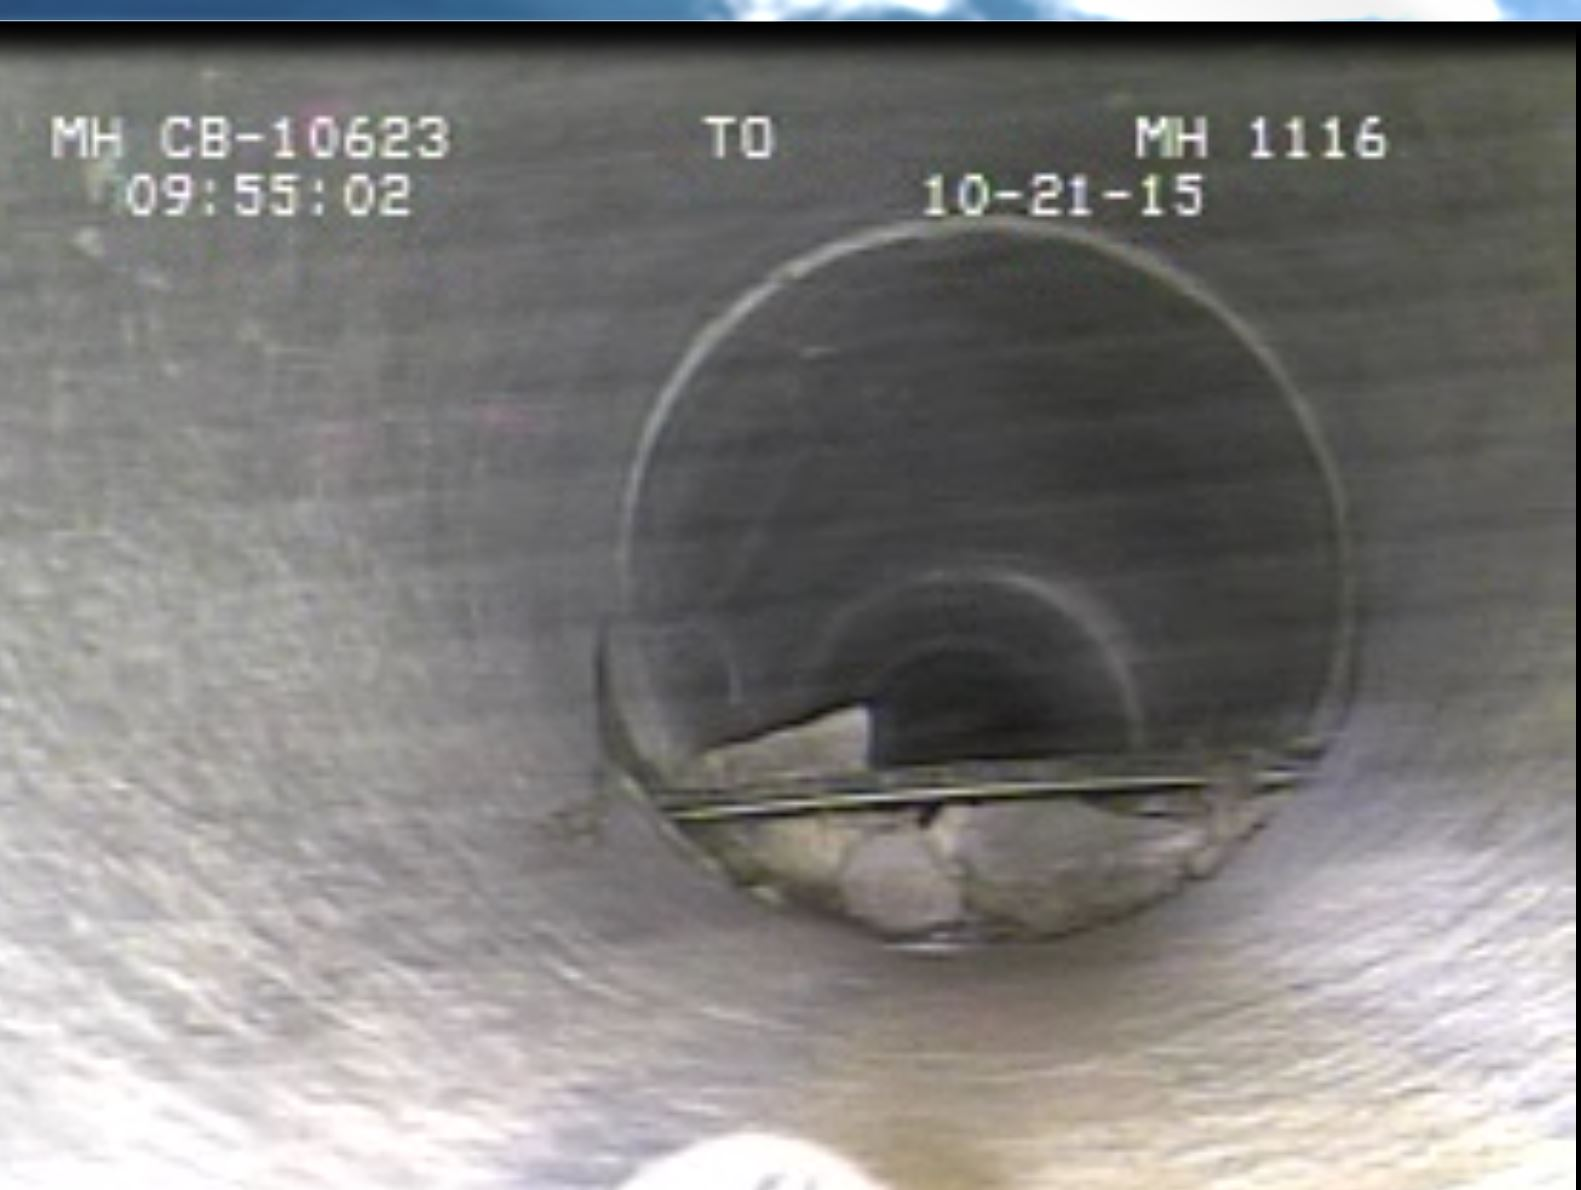cb: (615, 725, 1385, 852)
